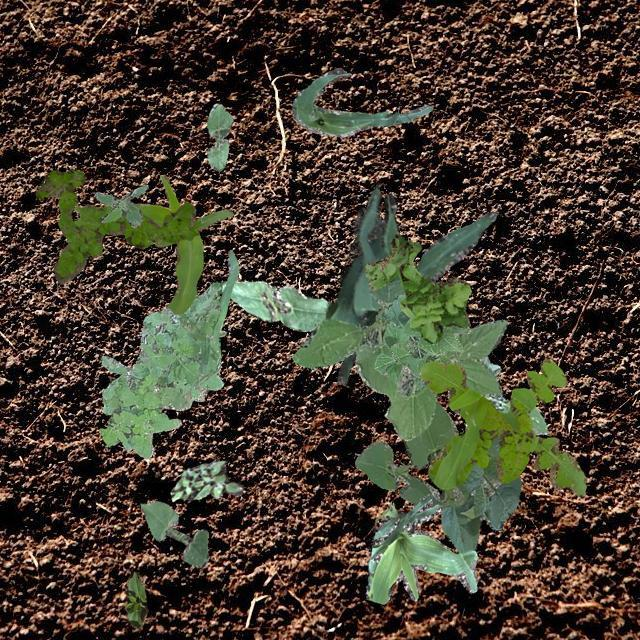crop: (324, 186, 496, 382), (354, 399, 520, 552), (72, 174, 232, 314), (364, 493, 476, 602), (290, 66, 432, 136), (374, 294, 469, 384), (218, 280, 328, 330), (140, 499, 207, 566), (216, 248, 238, 336), (206, 102, 232, 170), (124, 570, 146, 628)
weed: (292, 278, 506, 440), (418, 358, 586, 496), (99, 280, 222, 458), (34, 168, 198, 282), (364, 232, 470, 342), (482, 356, 548, 434), (170, 458, 242, 501), (94, 184, 148, 226)
